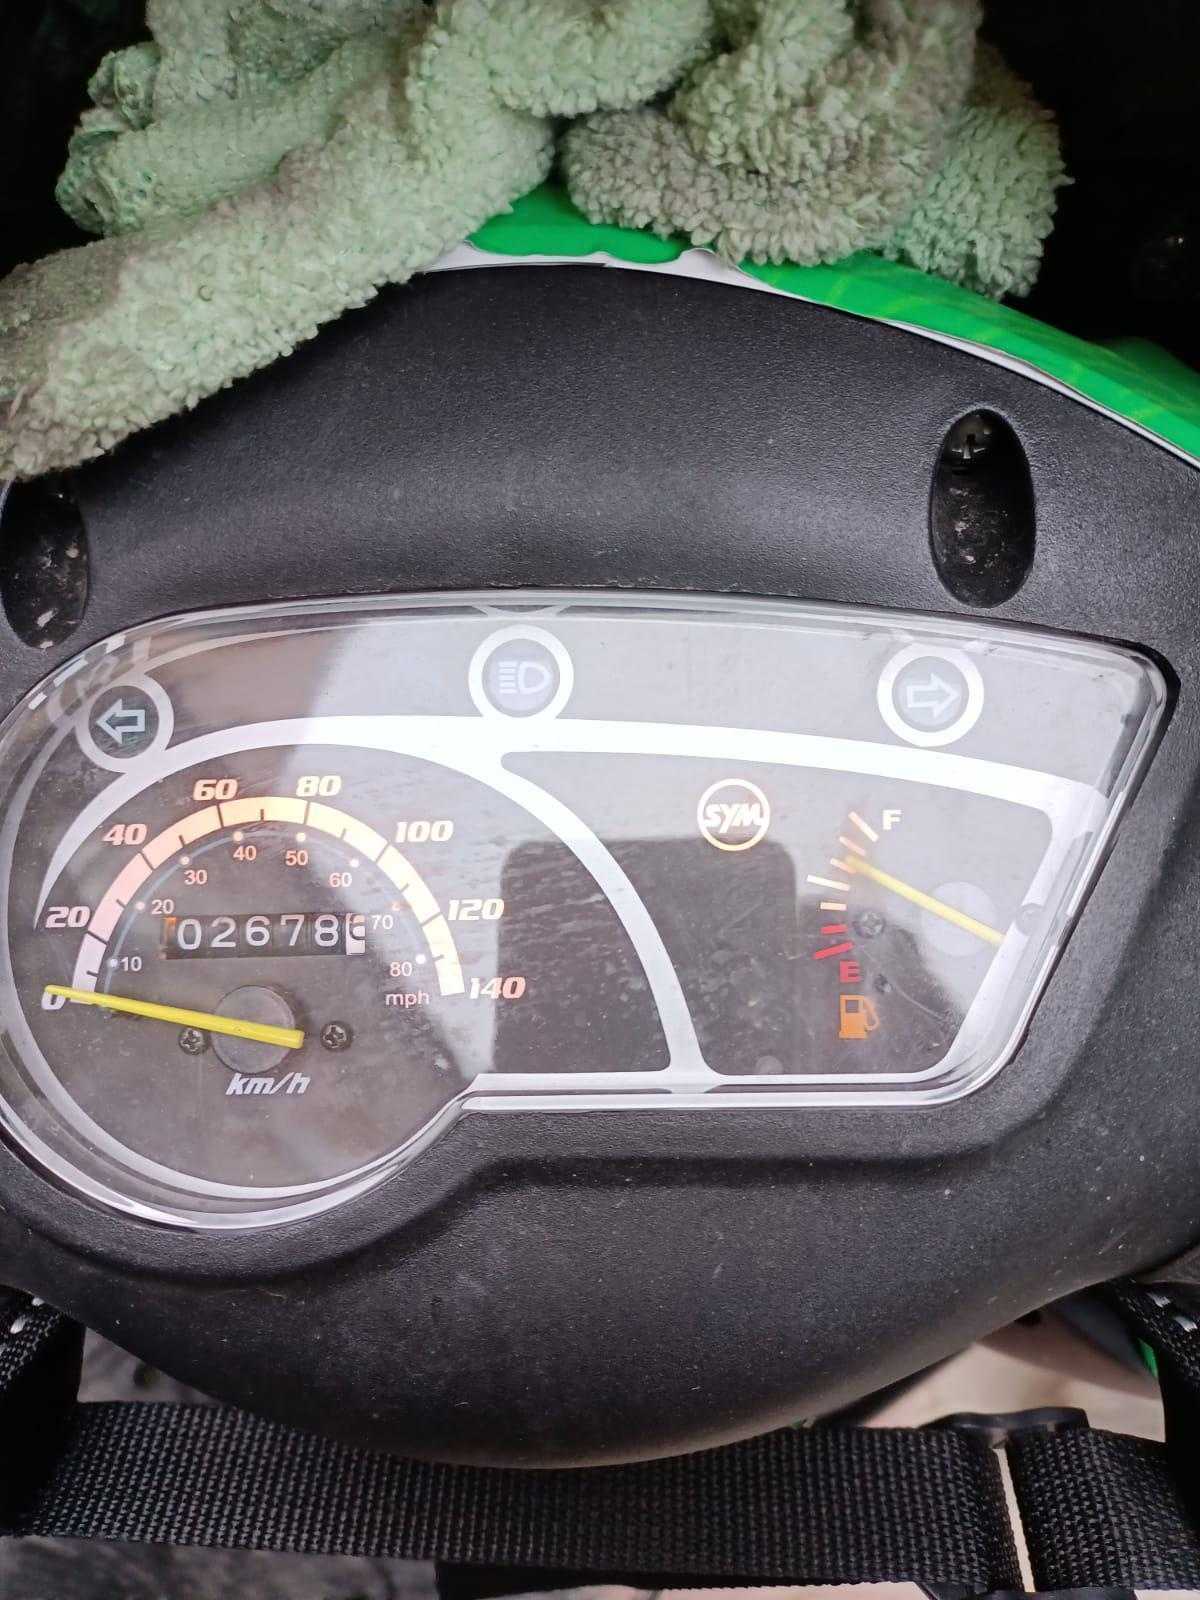0: (175, 916, 203, 952)
2: (205, 913, 238, 949)
6: (245, 913, 270, 950), (345, 911, 369, 945)
7: (276, 911, 305, 947)
8: (313, 913, 340, 950)
odometer: (159, 910, 369, 960)
